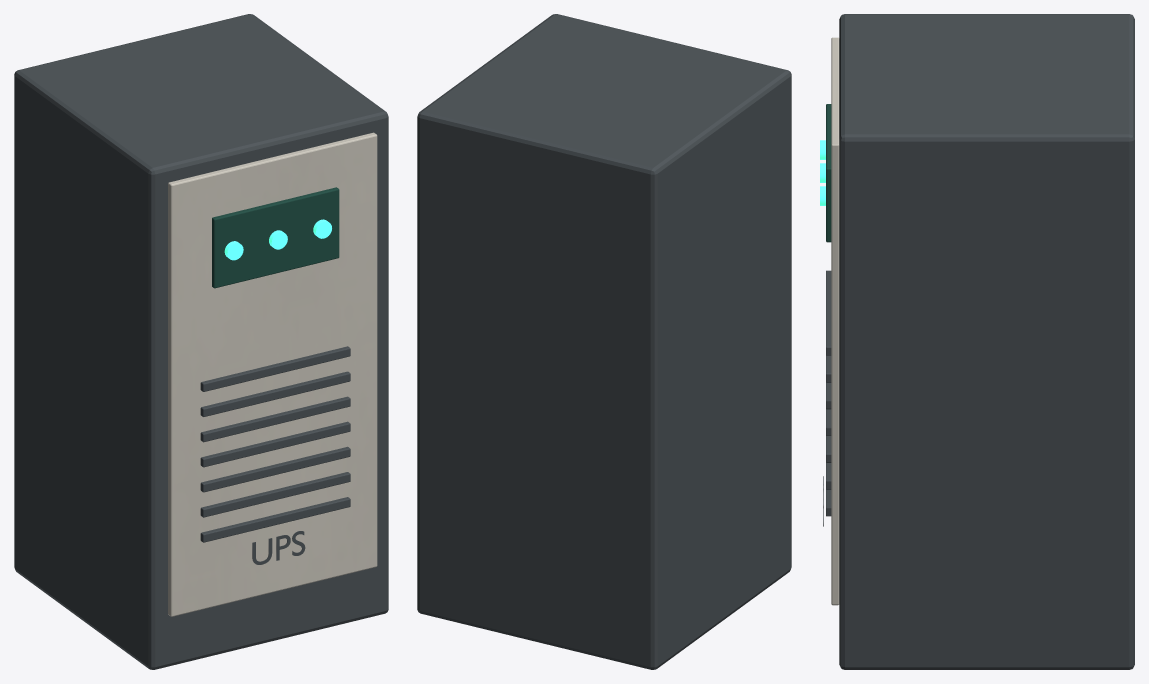
File: ups_backup_cabinet.glb
3 renders of one model, left to right at view 1: azimuth 30°, elevation 25°; view 2: azimuth 150°, elevation 25°; view 3: azimuth 270°, elevation 25°, orthographic. The views are drawn at different scales.
Visible parts, largest first — view 1: Cabinet.001, FrontPanel, ControlScreen, VentSlot.004, VentSlot.002, VentSlot.005, VentSlot, VentSlot.003, VentSlot.006, VentSlot.001, LABEL_UPS; view 2: Cabinet.001; view 3: Cabinet.001, FrontPanel, ControlScreen, VentSlot.
Part boxes in pixels (box(x1,y1,x2,y2)): Cabinet.001: box(14, 14, 388, 669); FrontPanel: box(168, 132, 377, 616); ControlScreen: box(212, 187, 339, 288); VentSlot.004: box(200, 446, 350, 492); VentSlot.002: box(200, 396, 350, 442); VentSlot.005: box(200, 472, 350, 517); VentSlot: box(200, 346, 350, 391); VentSlot.003: box(200, 421, 350, 467); VentSlot.006: box(200, 497, 350, 542); VentSlot.001: box(200, 371, 350, 416); LABEL_UPS: box(252, 531, 305, 564); Cabinet.001: box(417, 14, 791, 669); Cabinet.001: box(839, 14, 1134, 669); FrontPanel: box(831, 37, 839, 605); ControlScreen: box(826, 104, 831, 242); VentSlot: box(826, 270, 831, 355).
Size of the model in its own units: 0.65 by 1.3 by 0.6925.
Materials: 4 (1 with a texture image).
